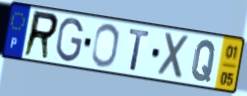G: (55, 16, 85, 64)
O: (90, 22, 120, 70)
Q: (190, 39, 218, 84)
R: (21, 9, 61, 62)
T: (127, 27, 152, 73)
X: (156, 30, 192, 82)
